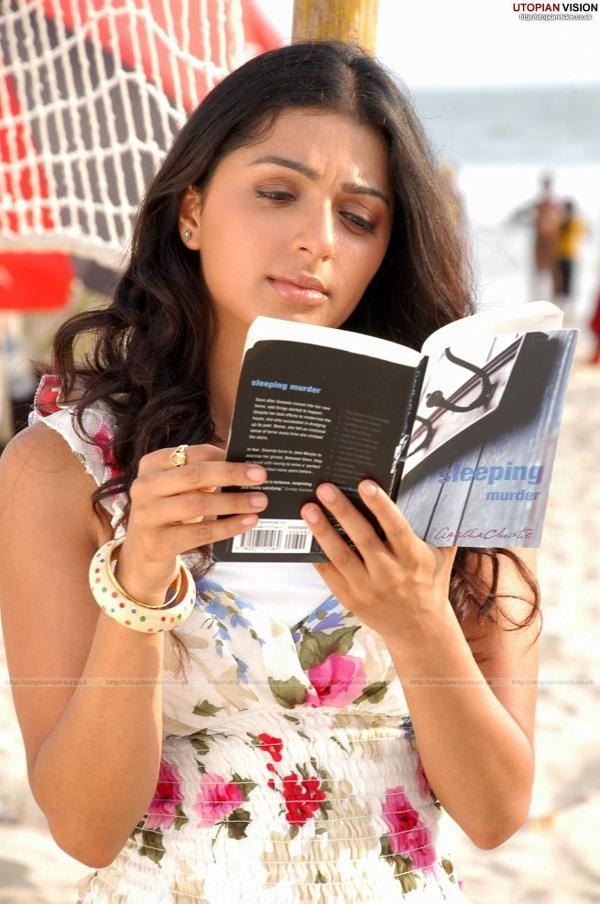person: (4, 41, 541, 904)
